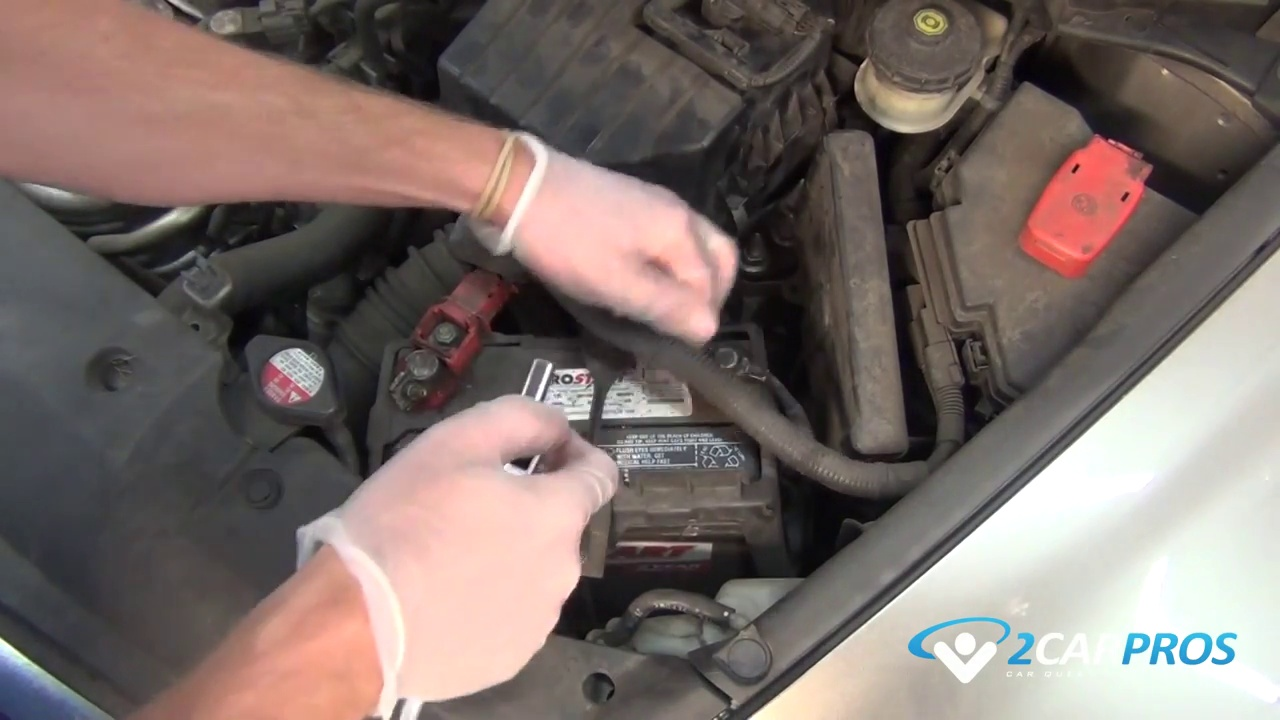battery: (366, 311, 779, 523)
neg_touched: (655, 248, 773, 410)
pos_connected: (369, 263, 526, 420)
